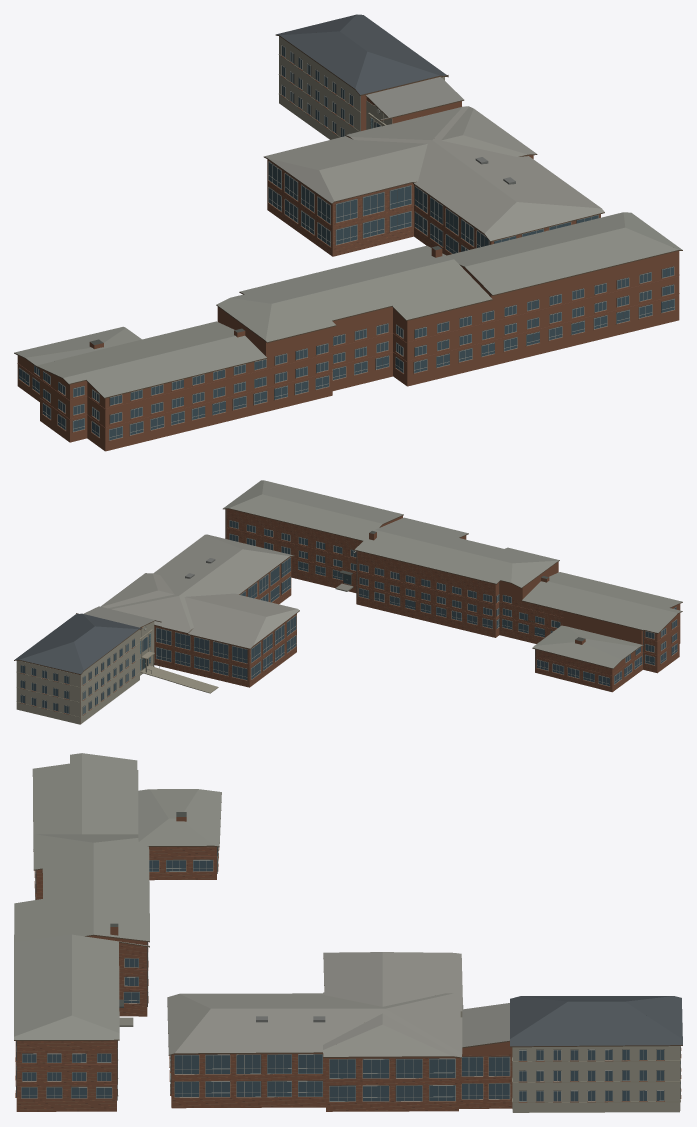
Rendered from site.glb.
The picture shows the model from 3 angles, top to bottom: view 1: azimuth 30°, elevation 25°; view 2: azimuth 150°, elevation 25°; view 3: azimuth 270°, elevation 25°; orthographic projection. The views are drawn at different scales.
Parts seen in each view (by area): view 1: roof-e3dcdde4, roof-b1c16a4e; view 2: roof-e3dcdde4, roof-b1c16a4e, bushnell-east-approaches; view 3: roof-b1c16a4e, roof-e3dcdde4.
Boxes of the visible parts, x1,y1,x2,y2 form: roof-e3dcdde4: [14, 212, 682, 451]; roof-b1c16a4e: [263, 14, 604, 256]; roof-e3dcdde4: [223, 480, 682, 692]; roof-b1c16a4e: [14, 534, 299, 724]; bushnell-east-approaches: [140, 583, 353, 693]; roof-b1c16a4e: [167, 952, 682, 1112]; roof-e3dcdde4: [14, 753, 221, 1111].
Bounding box in the file's own units: 97.5 × 13.41 × 92.18.
